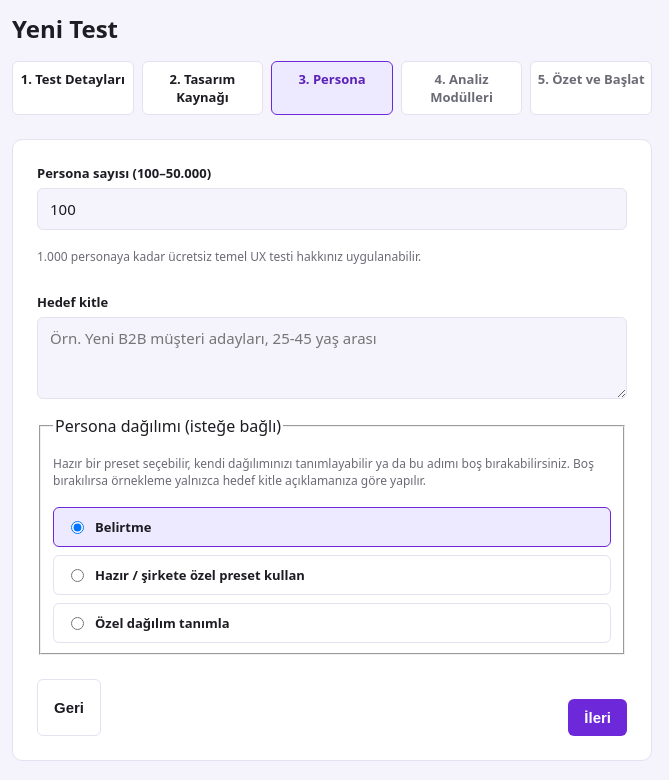
Test: TestWizard › persona sayisi 99 oldugunda bir sonraki adima gecisi engeller
Check: the list item "3. Persona" is shown, box [271,61,393,115]
Replace the text in the number field labelled "Persona sayısı (100–50.000)" with "99": x=332, y=209 [37,188,627,230]
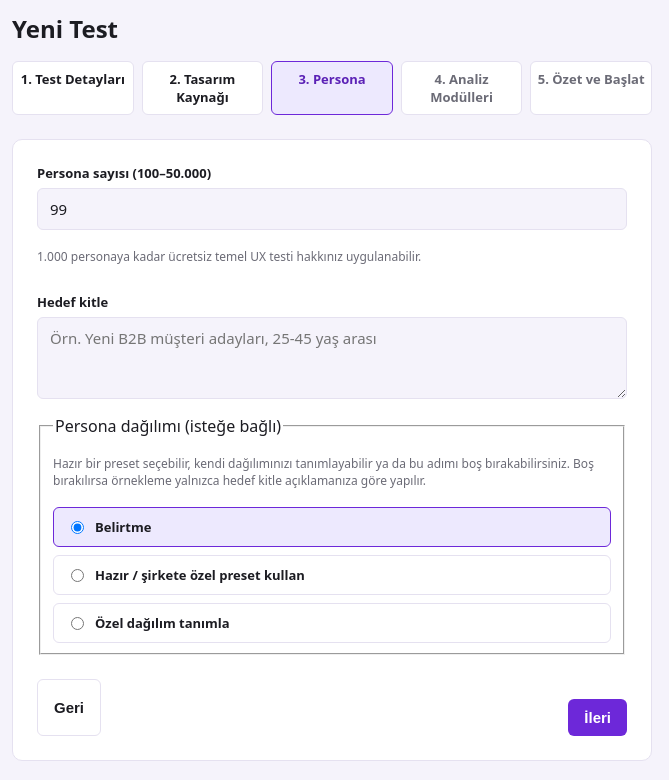
Click the button "İleri": x=598, y=717 [568,699,627,736]
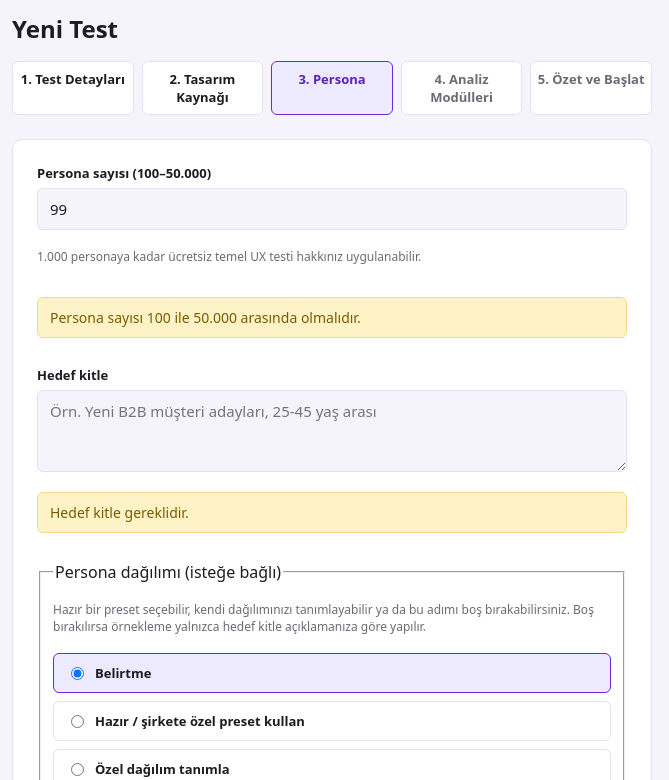
Check: the list item "3. Persona" is shown, box [271,61,393,115]
Check: the text "Persona sayısı 100 ile 50.000 arasında olmalıdır." is shown, box [37,297,627,338]
